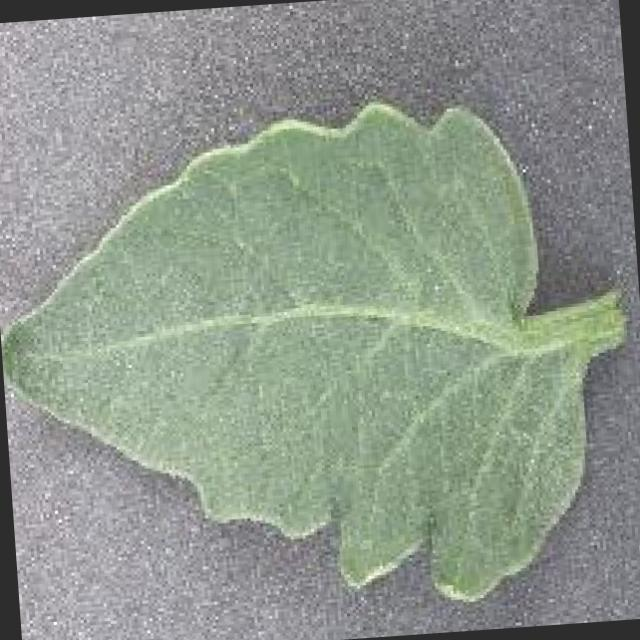healthy: (0, 100, 620, 598)
